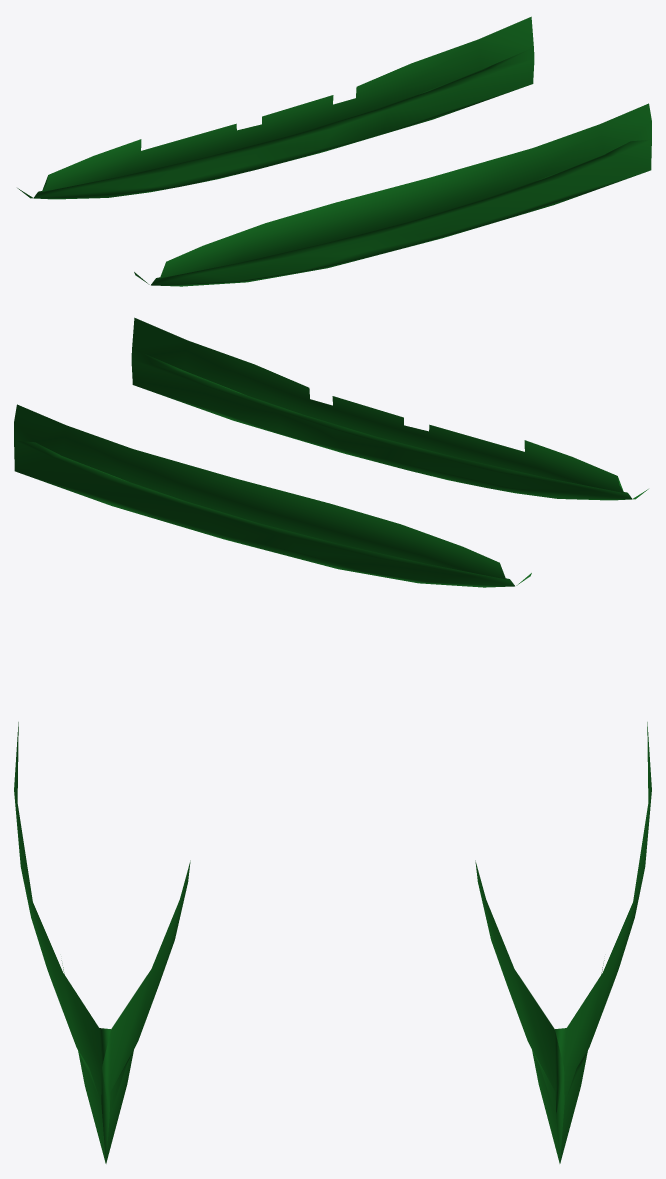
File: BODY__HULLS & DECKS__MESH H&D (for website)__MESH HULL.glb
3 renders of one model, top to bottom at view 1: azimuth 30°, elevation 25°; view 2: azimuth 150°, elevation 25°; view 3: azimuth 270°, elevation 25°, orthographic. The views are drawn at different scales.
Visible parts, largest first — view 1: lower (×2); view 2: lower (×2); view 3: lower (×2).
Part boxes in pixels (<box>): lower (×2): <box>17,16,651,286</box>; lower (×2): <box>14,317,648,587</box>; lower (×2): <box>14,722,651,1163</box>.
Size of the model in its own units: 11.4 by 1.76 by 6.43.
